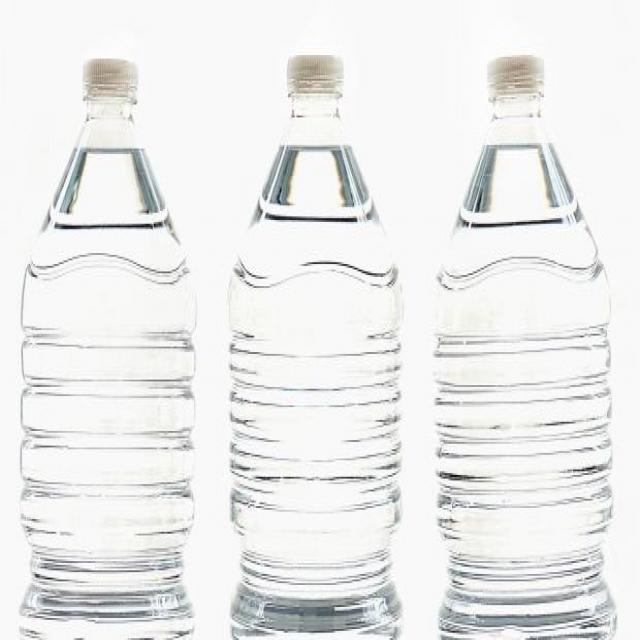plastic_bottle: (434, 58, 616, 640), (24, 58, 196, 640), (230, 58, 402, 640)
